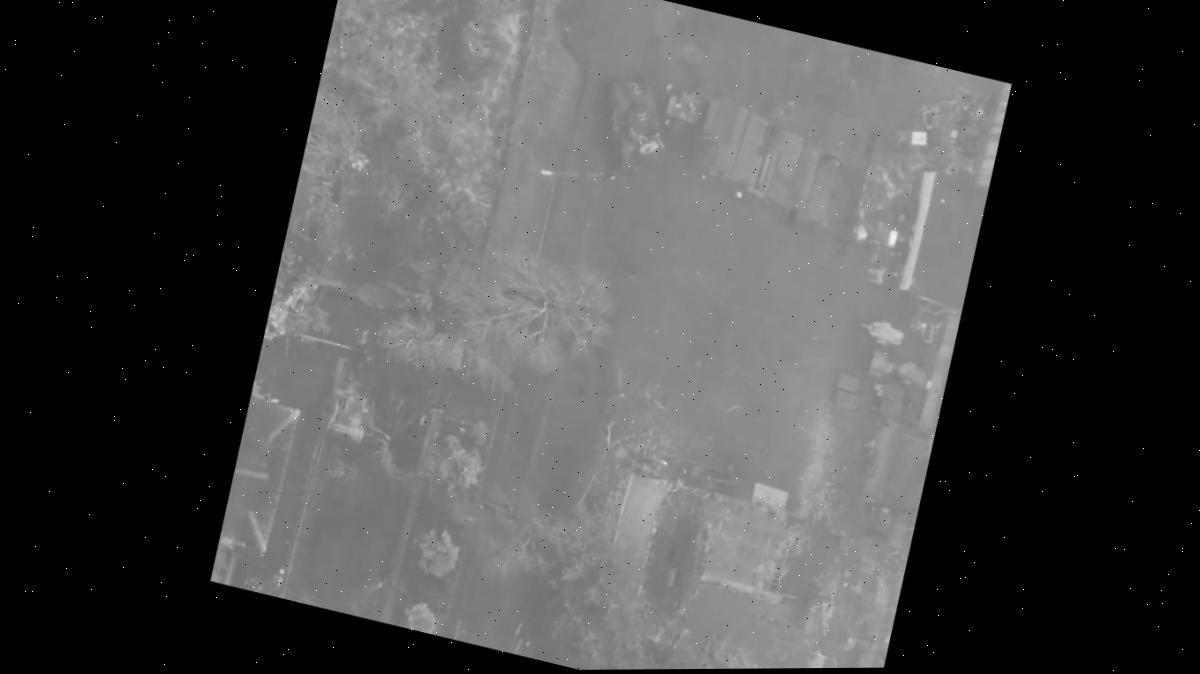tank: (583, 61, 682, 187)
